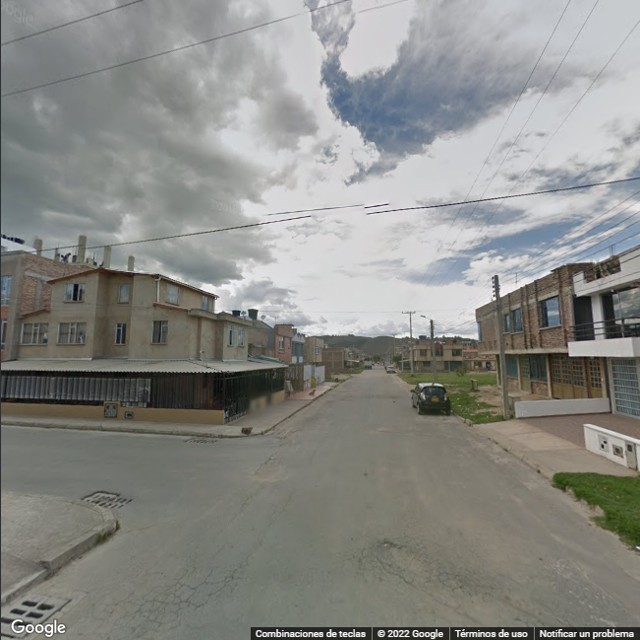D00: (242, 493, 292, 568), (201, 577, 229, 610)
D10: (369, 554, 488, 626)
D20: (105, 585, 194, 637), (421, 559, 475, 599)
